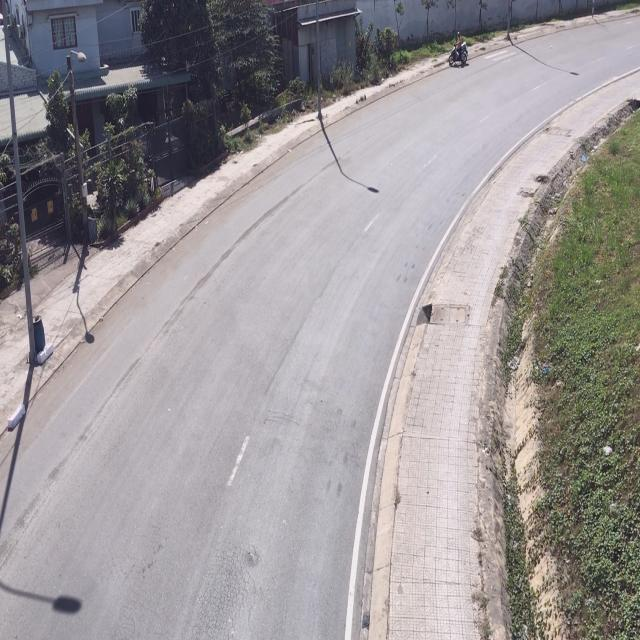motorbike: (447, 31, 468, 71)
